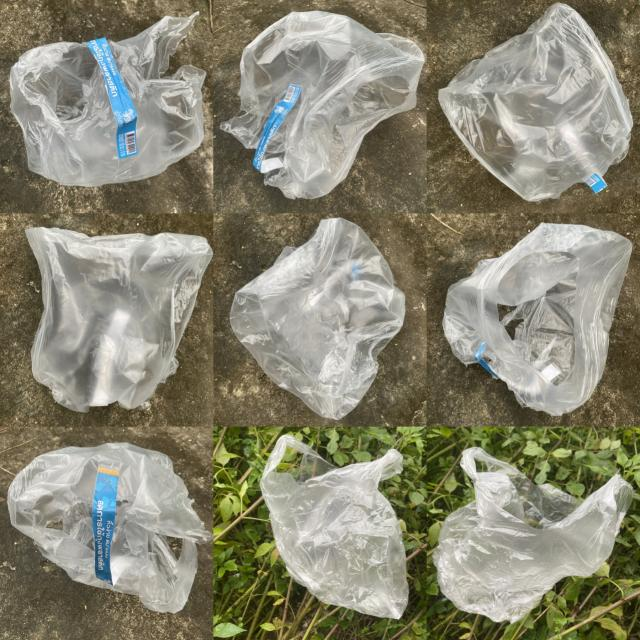Single-layer Plastic: (439, 2, 632, 201), (220, 11, 424, 199), (442, 224, 631, 415), (230, 219, 405, 419), (8, 442, 211, 612), (434, 448, 632, 622), (26, 228, 212, 412), (10, 12, 205, 186), (260, 435, 409, 618)
